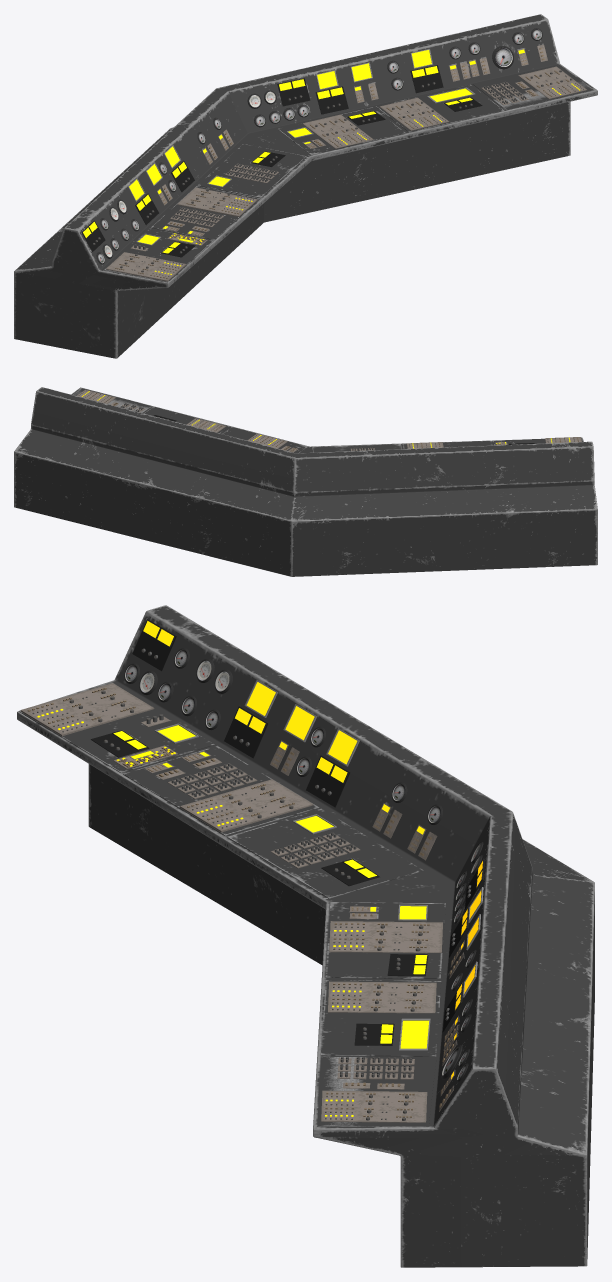
File: nuclear_reactor_control_panel.glb
3 renders of one model, top to bottom at view 1: azimuth 30°, elevation 25°; view 2: azimuth 150°, elevation 25°; view 3: azimuth 270°, elevation 25°, orthographic. The views are drawn at different scales.
Visible parts, largest first — view 1: Main_panel, Panel_1 (×5), under_panel2, Panel_2 (×3), under_panel, under_panel4, under_panel1, under_panel5, under_panel3; view 2: Main_panel, Panel_1 (×3), under_panel2, under_panel4, under_panel, under_panel5, under_panel1; view 3: Main_panel, Panel_1 (×5), Panel_2 (×7), under_panel2, under_panel, under_panel4, under_panel1, under_panel5, under_panel3, Glow_panel_07.
Boxes of the visible parts, left/top/right/bottom form: Main_panel: left=14, top=14, right=597, bottom=358; Panel_1 (×5): left=106, top=66, right=586, bottom=281; under_panel2: left=197, top=144, right=306, bottom=197; Panel_2 (×3): left=277, top=65, right=443, bottom=114; under_panel: left=277, top=107, right=406, bottom=154; under_panel4: left=376, top=84, right=504, bottom=132; under_panel1: left=151, top=186, right=260, bottom=240; under_panel5: left=473, top=65, right=593, bottom=110; under_panel3: left=104, top=228, right=213, bottom=282; Main_panel: left=14, top=387, right=597, bottom=576; Panel_1 (×3): left=77, top=389, right=287, bottom=448; under_panel2: left=312, top=444, right=401, bottom=452; under_panel4: left=144, top=406, right=229, bottom=433; under_panel: left=222, top=427, right=307, bottom=453; under_panel5: left=73, top=388, right=151, bottom=412; under_panel1: left=402, top=440, right=492, bottom=448; Main_panel: left=17, top=605, right=594, bottom=1267; Panel_1 (×5): left=20, top=683, right=442, bottom=1122; Panel_2 (×7): left=91, top=619, right=428, bottom=1045; under_panel2: left=227, top=808, right=423, bottom=898; under_panel: left=325, top=902, right=445, bottom=978; under_panel4: left=320, top=980, right=441, bottom=1056; under_panel1: left=123, top=746, right=319, bottom=835; under_panel5: left=317, top=1056, right=436, bottom=1126; under_panel3: left=18, top=683, right=214, bottom=772; Glow_panel_07: left=399, top=1018, right=430, bottom=1050.
Bounding box in the file's own units: 1.3 × 0.2477 × 0.6536.
Materials: 8 (7 with a texture image).
